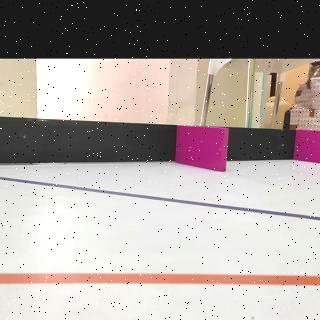xparking: (178, 128, 226, 168), (297, 132, 320, 158)
